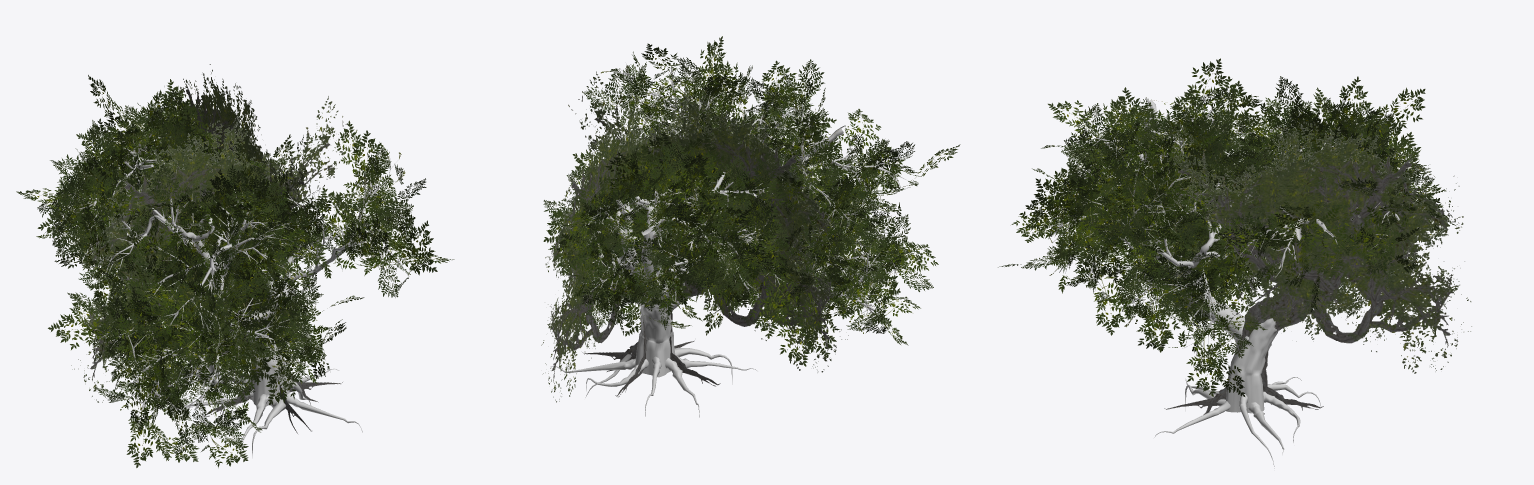
The model's file is Tree_A1.fbx.
3 renders of one model, left to right at view 1: azimuth 30°, elevation 25°; view 2: azimuth 150°, elevation 25°; view 3: azimuth 270°, elevation 25°, orthographic.
Visible parts, largest first — view 1: Tree_A1_LOD0, Tree_A1_Billboard; view 2: Tree_A1_LOD0, Tree_A1_Billboard; view 3: Tree_A1_LOD0, Tree_A1_Billboard.
Boxes of the visible parts, x1=… form: Tree_A1_LOD0: x1=16, y1=75, x2=454, y2=467; Tree_A1_Billboard: x1=71, y1=64, x2=357, y2=433; Tree_A1_LOD0: x1=543, y1=36, x2=960, y2=417; Tree_A1_Billboard: x1=541, y1=61, x2=848, y2=402; Tree_A1_LOD0: x1=998, y1=58, x2=1455, y2=468; Tree_A1_Billboard: x1=1148, y1=121, x2=1471, y2=414.
Size of what is drawn, in the model's own units: 538 by 468 by 609.
